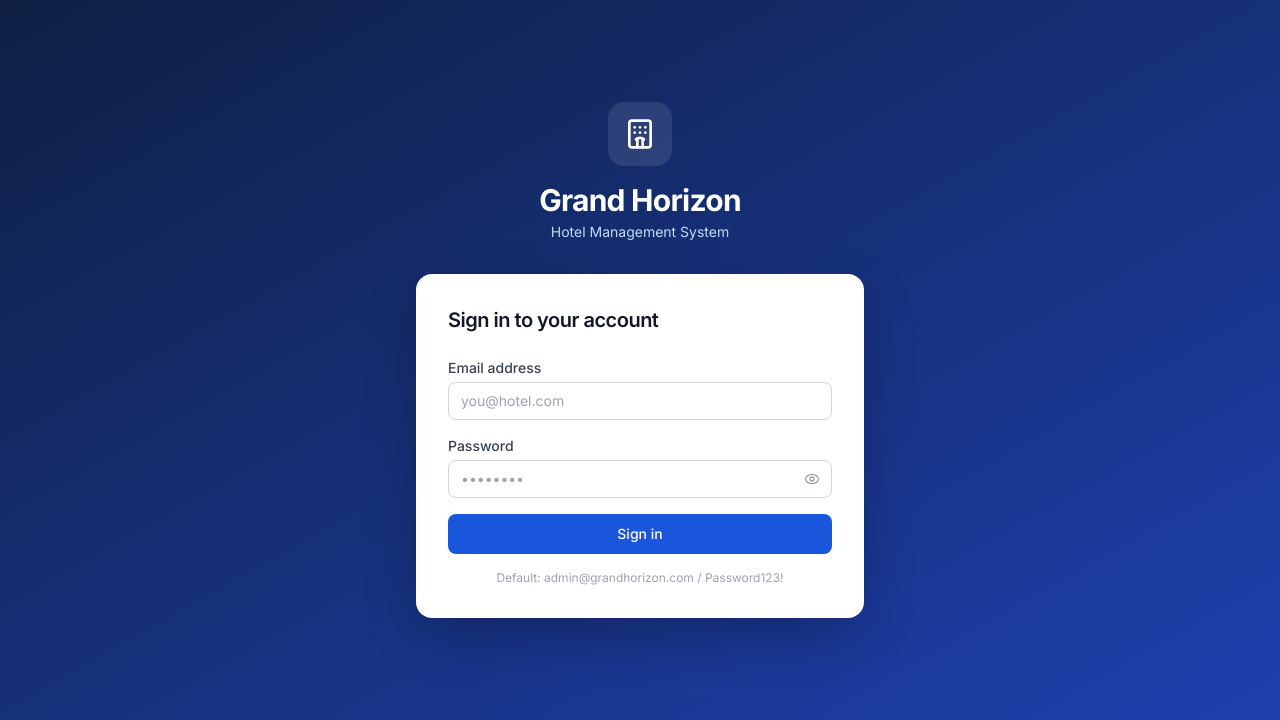
Test: LoginPage › shows error for invalid email format
Type "notanemail" into the field with placeholder "you@hotel.com" at (640, 401), box x1=448 y1=382 x2=832 y2=420
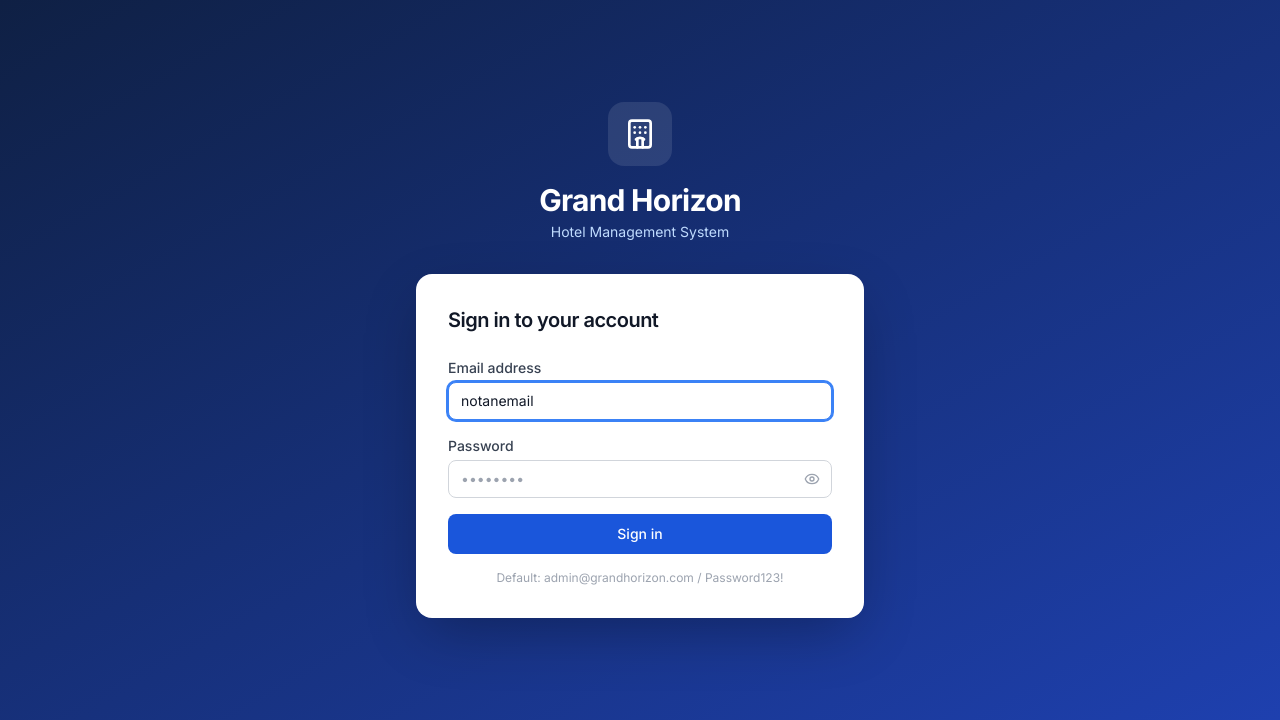
Click the button "Sign in" at (640, 534), box x1=448 y1=514 x2=832 y2=554
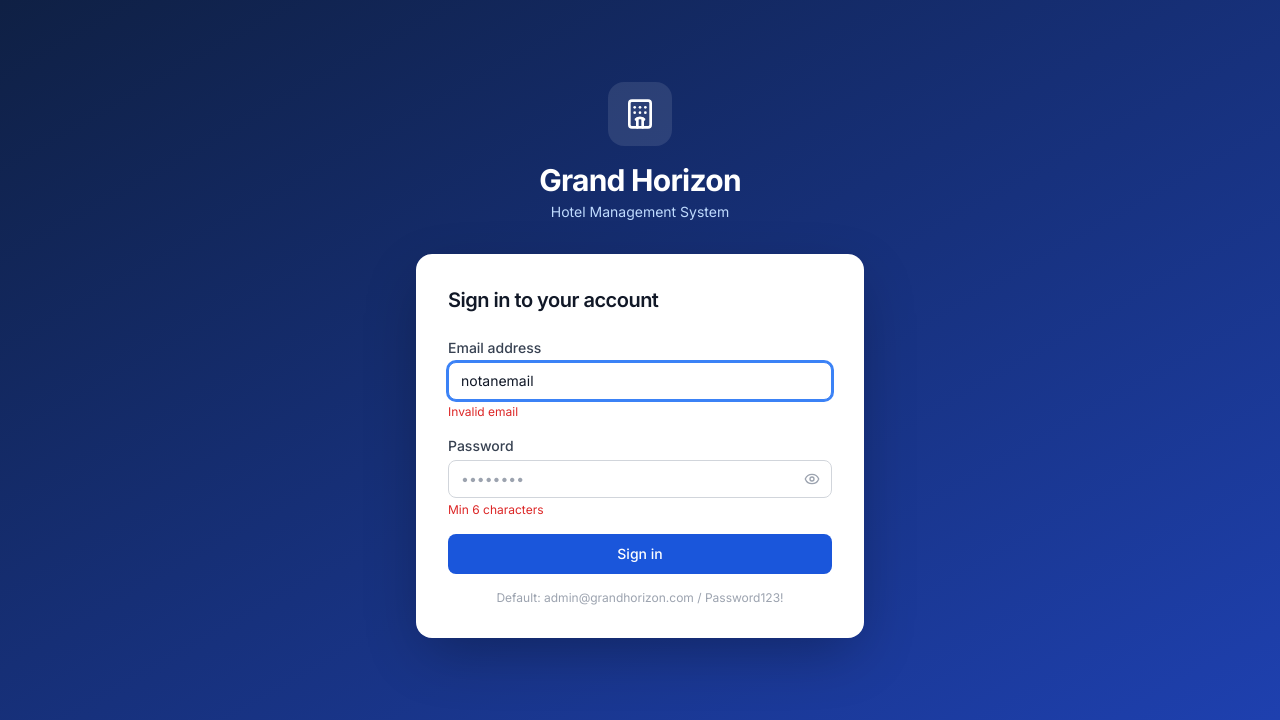
Expected: the text "Invalid email" is shown, x1=448 y1=404 x2=518 y2=419
